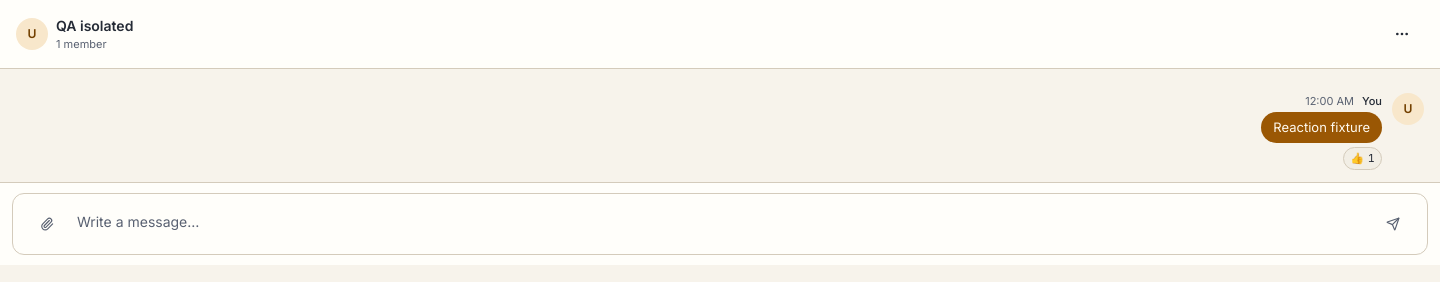
Test: keeps the server reaction when its realtime echo arrives before the HTTP result
Expected: the text "Reaction fixture" is shown, [1261,112,1382,143]
Click the button "👍 1": (1363, 158) [1343,147,1382,170]
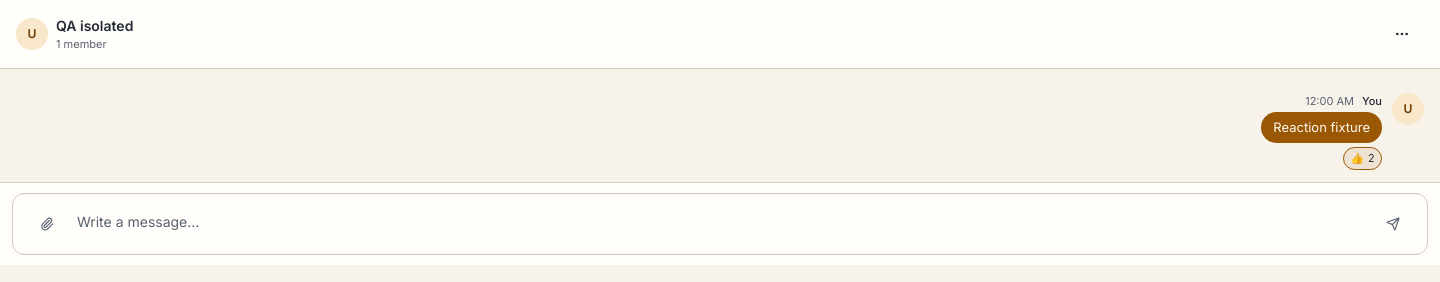
Expected: the button "👍 2" is shown, [1343,147,1382,170]
